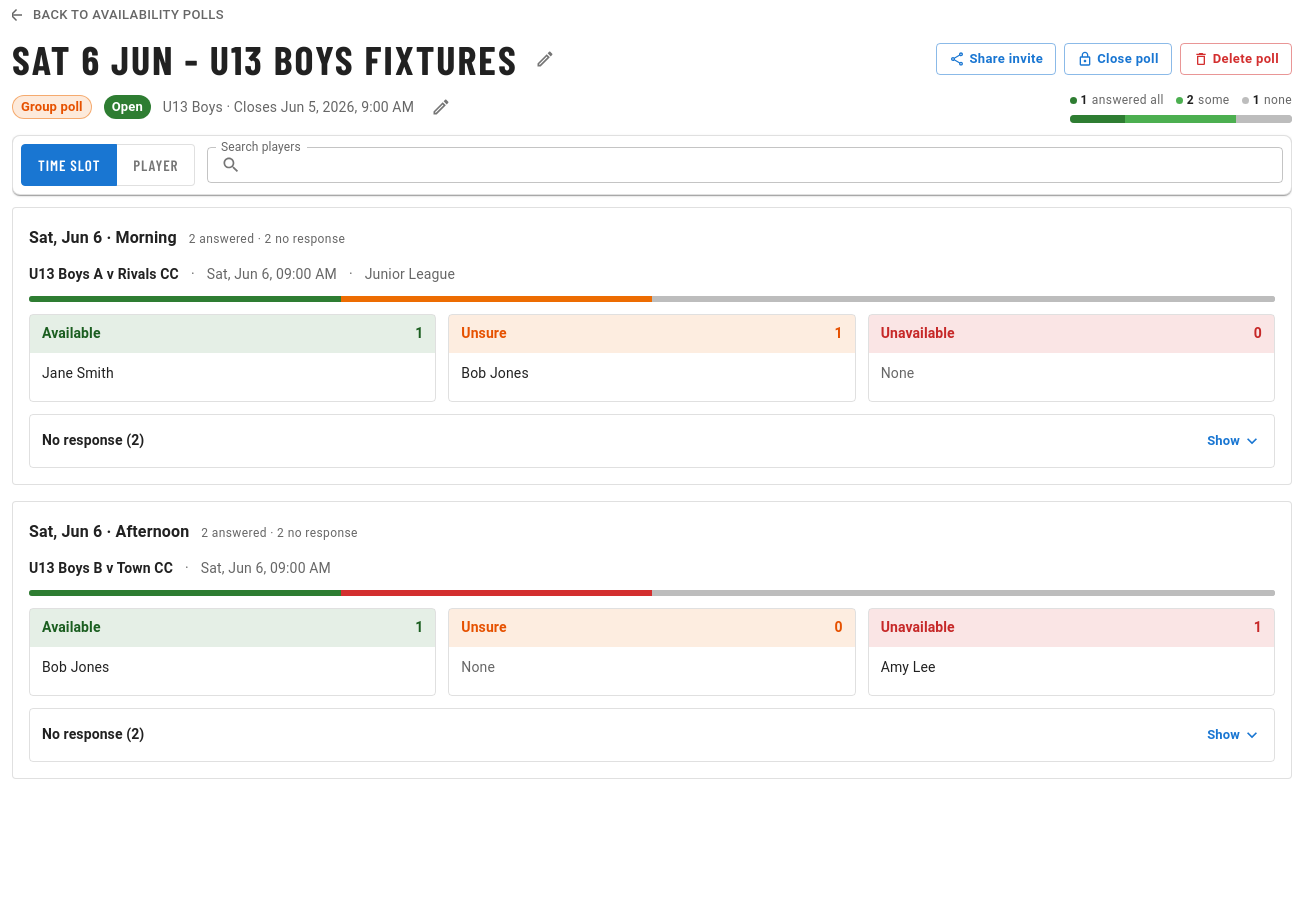
GroupPollResponsesPage › collapses No response to its count and expands per slot
Check: the heading "Sat 6 Jun - U13 Boys fixtures" is shown, box x1=12 y1=39 x2=518 y2=79
Check: the number of headings "No response (2)" is 2, box x1=38 y1=430 x2=144 y2=452; x1=38 y1=724 x2=144 y2=746
Click the button named "show no response players": (652, 441) x1=38 y1=423 x2=1266 y2=459
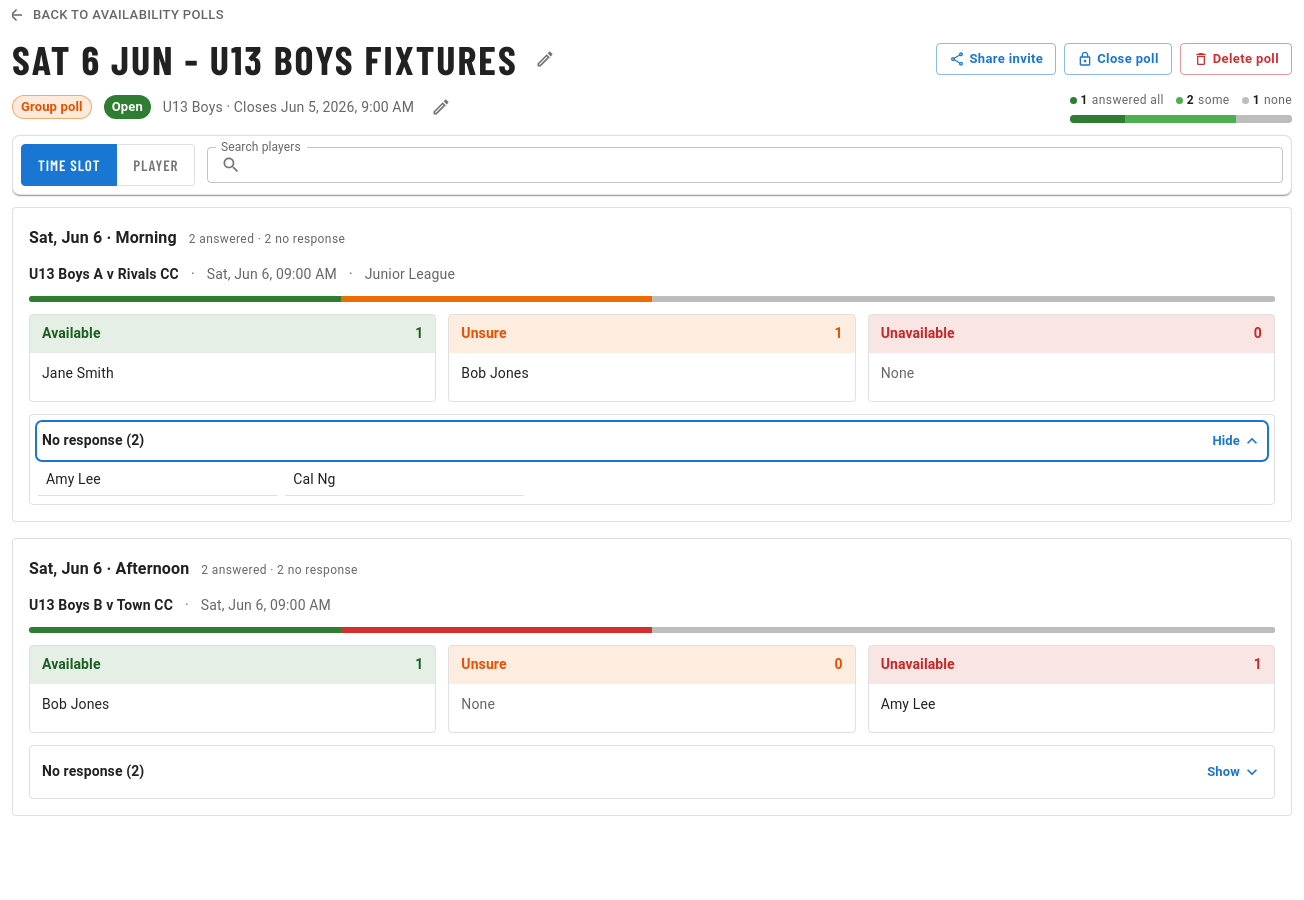
Check: the text "Cal Ng" is shown, box x1=293 y1=471 x2=336 y2=487
Check: the text "Amy Lee" below "U13 Boys A" is shown, box x1=46 y1=471 x2=101 y2=487
Click the button named "hide no response players": (652, 441) x1=38 y1=423 x2=1266 y2=459
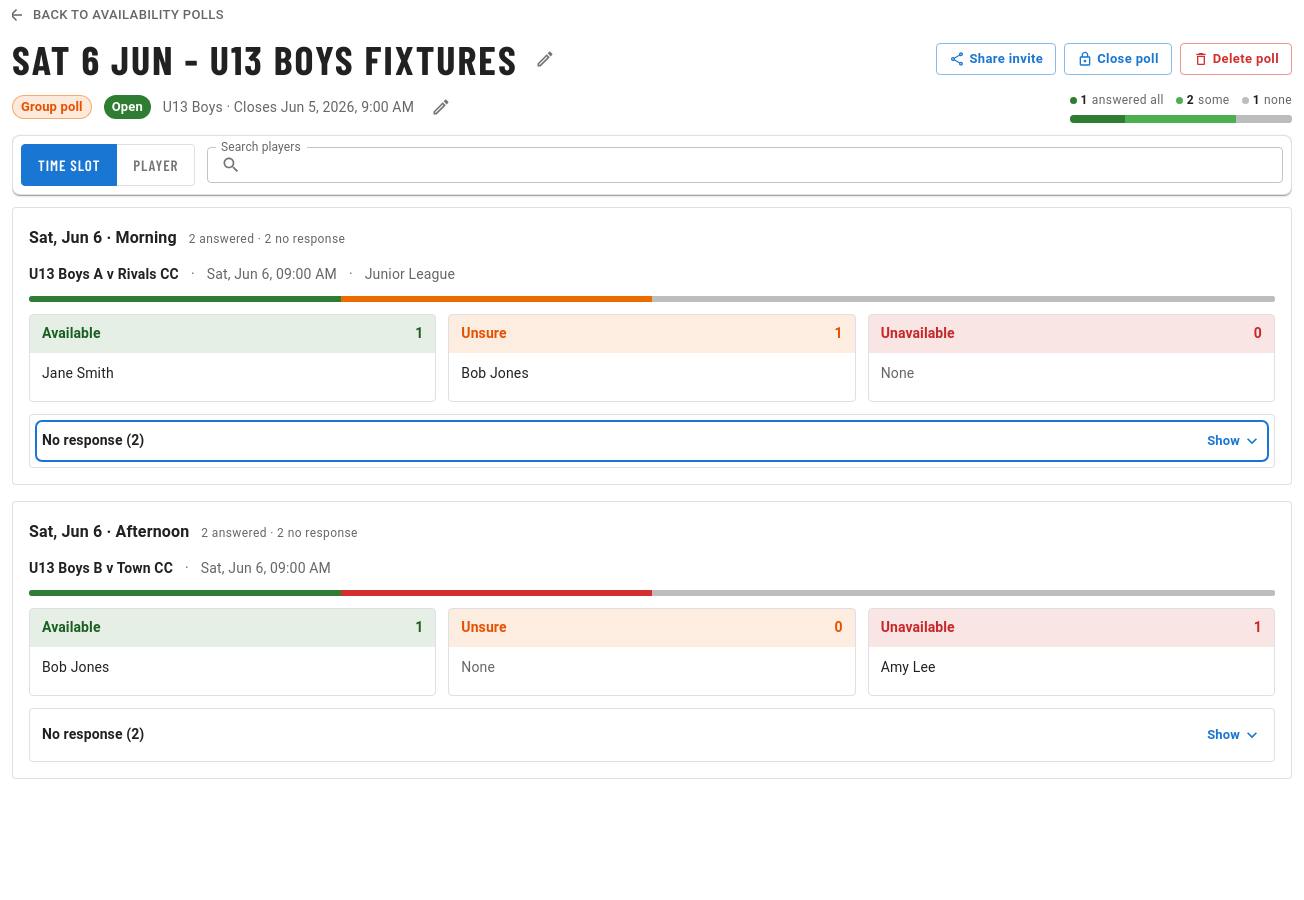
Check: the button "Cal Ng" is gone
